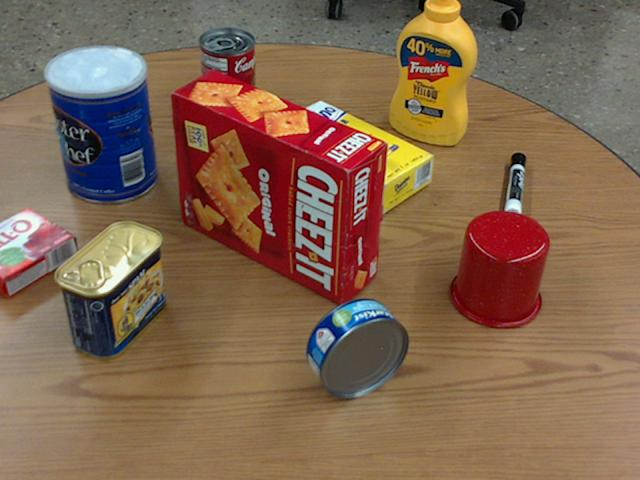cracker_box: (171, 70, 386, 304)
gelatin_box: (0, 207, 74, 294)
large_marker: (505, 152, 526, 220)
master_chef_can: (45, 46, 155, 203)
mug: (449, 210, 548, 327)
mustard_bottle: (390, 0, 477, 144)
potted_meat_can: (53, 219, 162, 357)
sugar_box: (271, 100, 433, 212)
tomato_soup_can: (199, 27, 255, 124)
tuna_fish_can: (306, 298, 408, 397)
